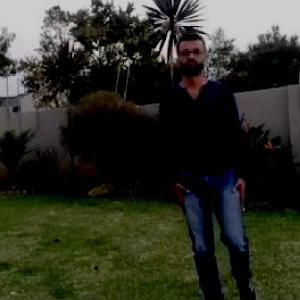follow: (153, 0, 256, 299)
